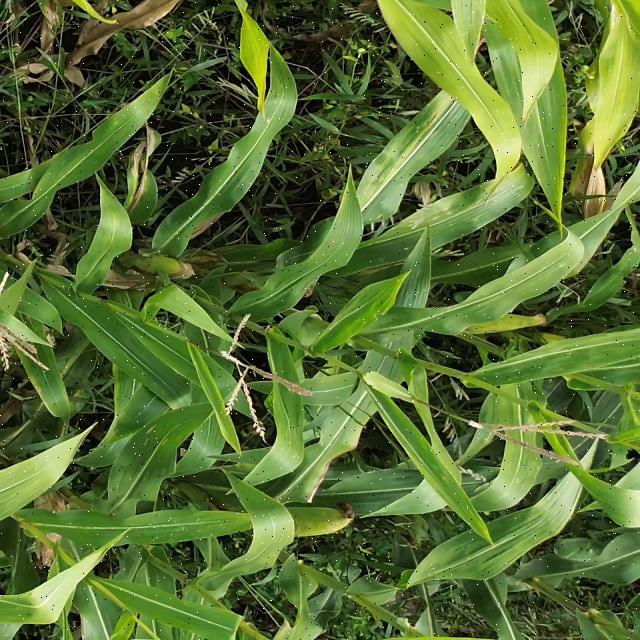gray-leaf-spot: (88, 405, 213, 478)
northern-leaf-blight: (113, 128, 178, 223)
southern-leaf-blight: (401, 161, 528, 247), (110, 506, 278, 562), (395, 424, 470, 546), (455, 334, 601, 394), (364, 103, 464, 189)
